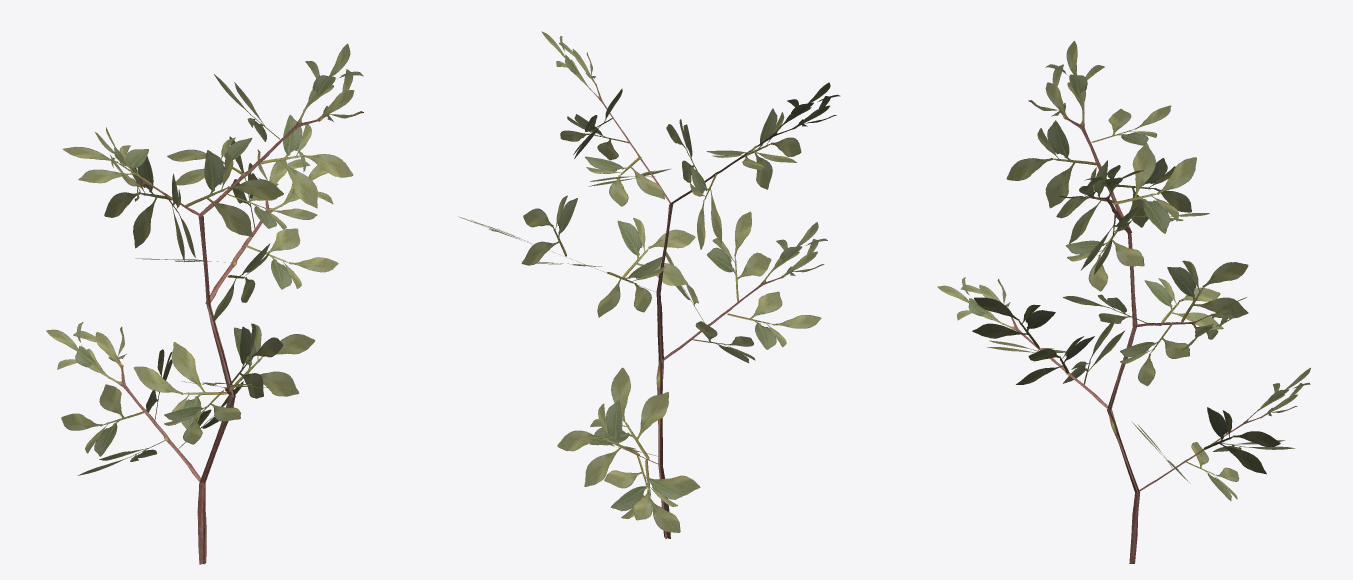
Rendered from shrub_04.fbx.
The picture shows the model from 3 angles, left to right: view 1: azimuth 30°, elevation 25°; view 2: azimuth 150°, elevation 25°; view 3: azimuth 270°, elevation 25°; orthographic projection. The views are drawn at different scales.
Visible parts, largest first — view 1: shrub_04; view 2: shrub_04; view 3: shrub_04.
Boxes of the visible parts, x1,y1,x2,y2 form: shrub_04: [46, 43, 363, 564]; shrub_04: [458, 31, 840, 538]; shrub_04: [937, 41, 1310, 563].
Bounding box in the file's own units: 42.66 × 58.59 × 47.14.
